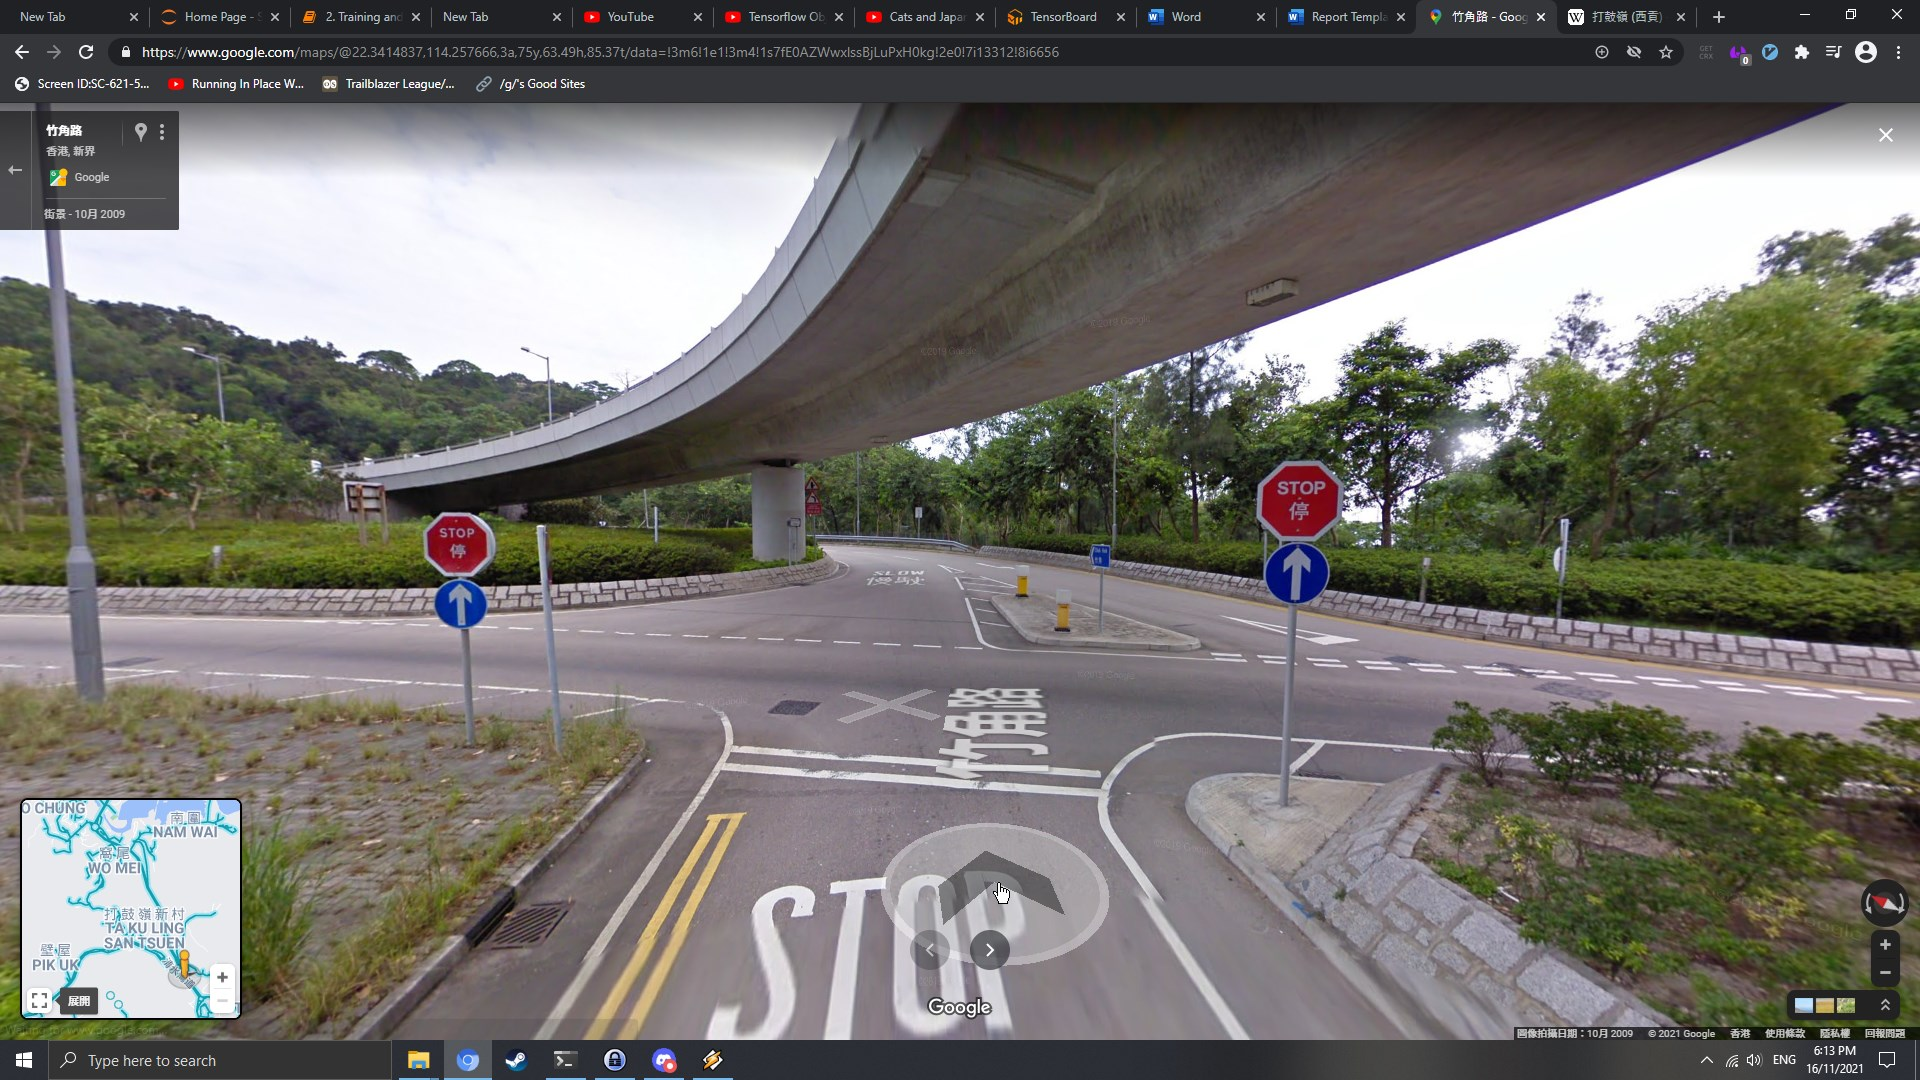Stop: (1255, 462, 1342, 541), (425, 512, 491, 578)
